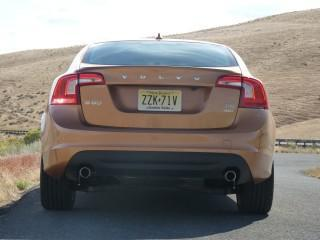volvo: (112, 69, 207, 87)
